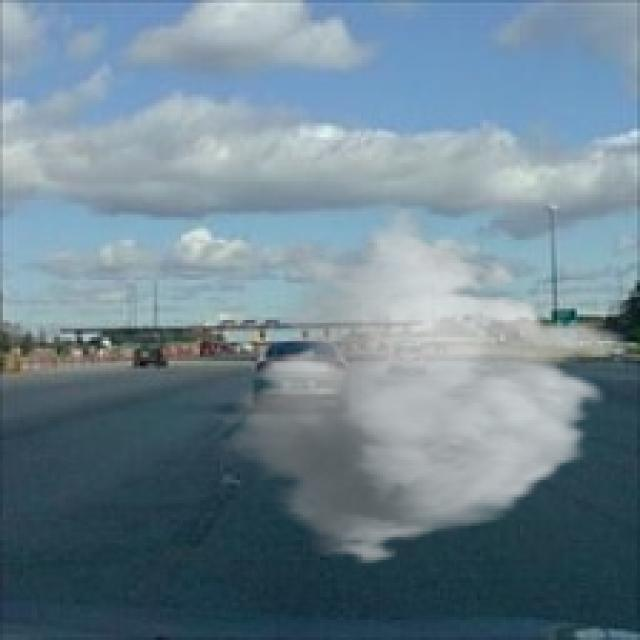smoke: (208, 206, 632, 568)
